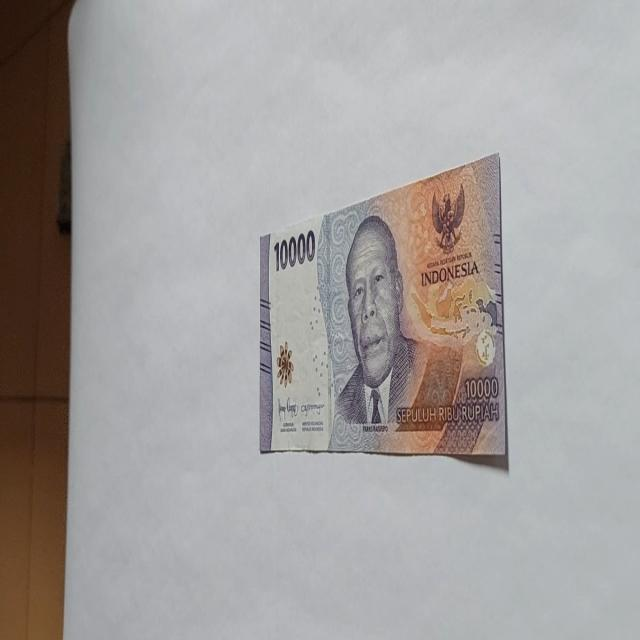sepuluh ribu rupiah: (258, 151, 508, 466), (328, 212, 463, 450)
